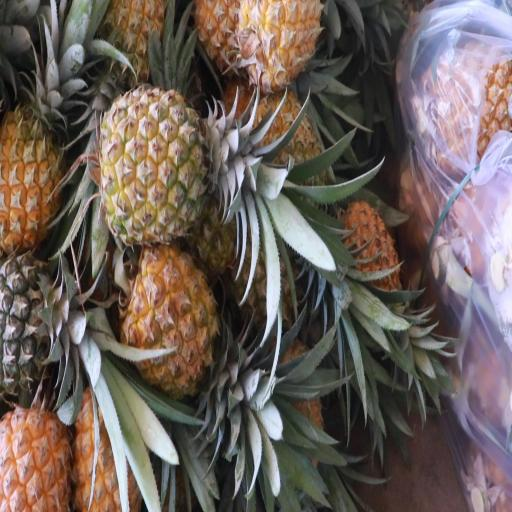Pineapple - v8 v1: (99, 83, 263, 232), (128, 234, 234, 417), (0, 64, 86, 247), (73, 348, 144, 512), (0, 385, 73, 512)
